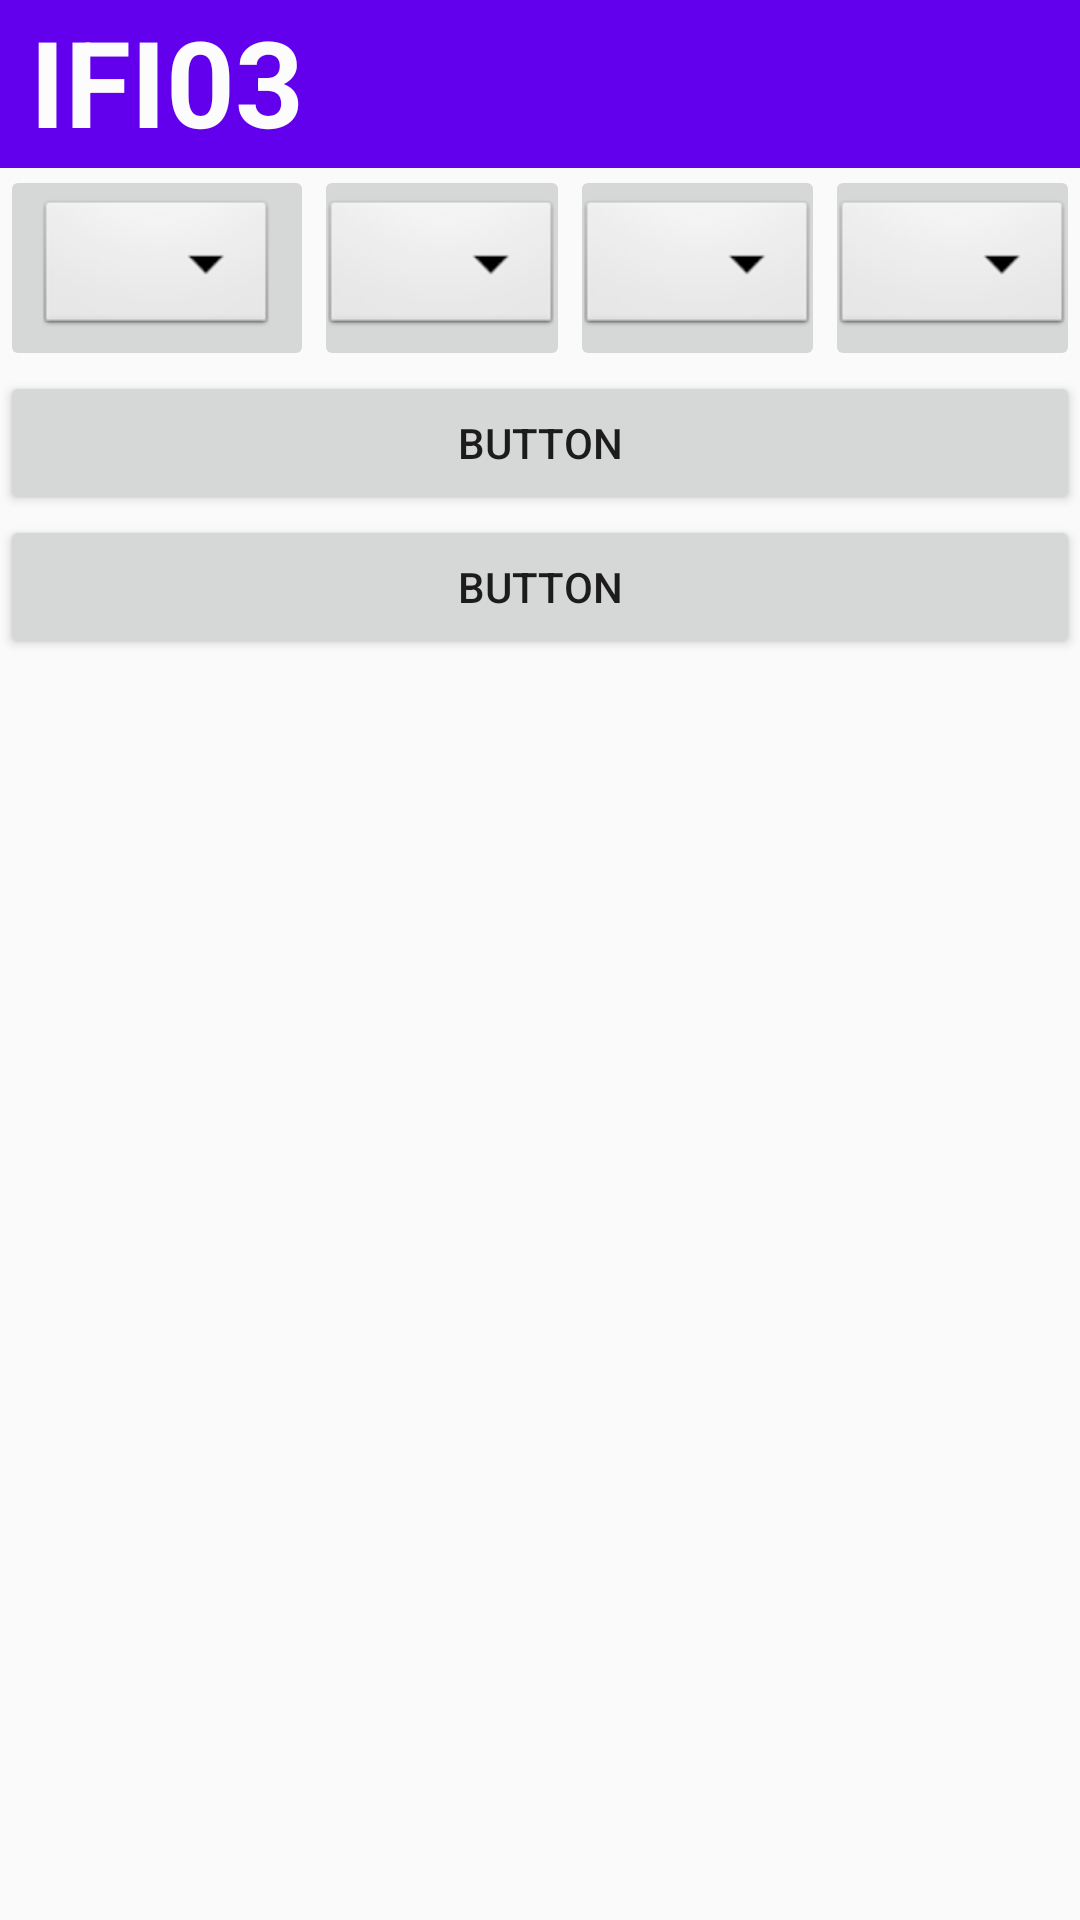

Where icons sit on this 1080×1920 app screen, as region(x1, y1, x2, y2):
dropdown: region(314, 165, 570, 353), region(570, 165, 825, 353), region(825, 165, 1080, 353), region(12, 183, 302, 353)
